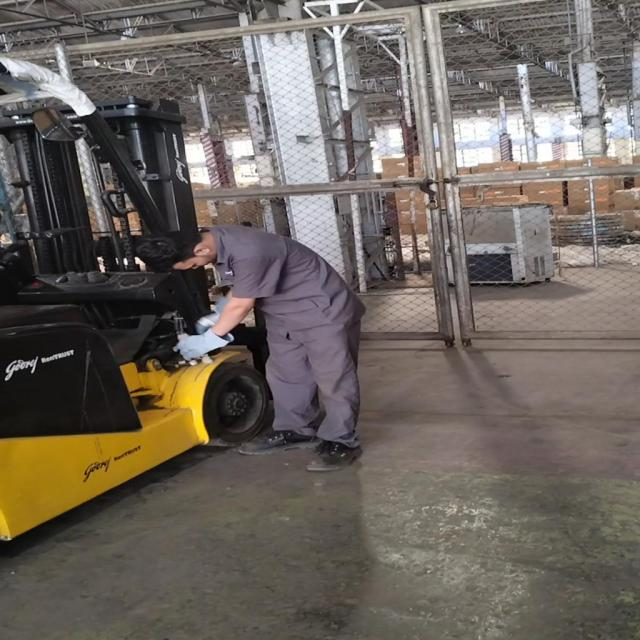Gloves-Detection: (177, 330, 234, 364), (191, 297, 224, 331)
